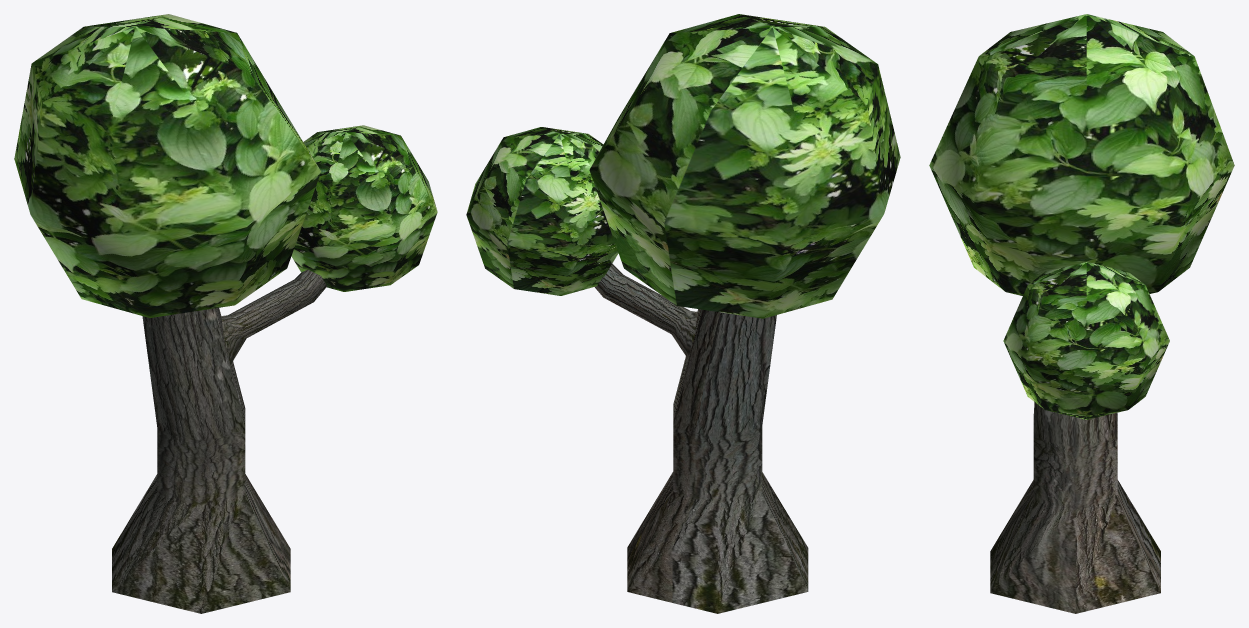
The model's file is tree.DAE.
The picture shows the model from 3 angles, left to right: view 1: azimuth 30°, elevation 25°; view 2: azimuth 150°, elevation 25°; view 3: azimuth 270°, elevation 25°; orthographic projection. The views are drawn at different scales.
Parts seen in each view (by area): view 1: Trunk; view 2: Trunk; view 3: Trunk.
Boxes of the visible parts, <box> form: Trunk: <box>14,14,437,613</box>; Trunk: <box>466,14,900,613</box>; Trunk: <box>929,14,1234,613</box>.
Bounding box in the file's own units: 84.9 × 112 × 58.52.
2 materials, 2 textured.
